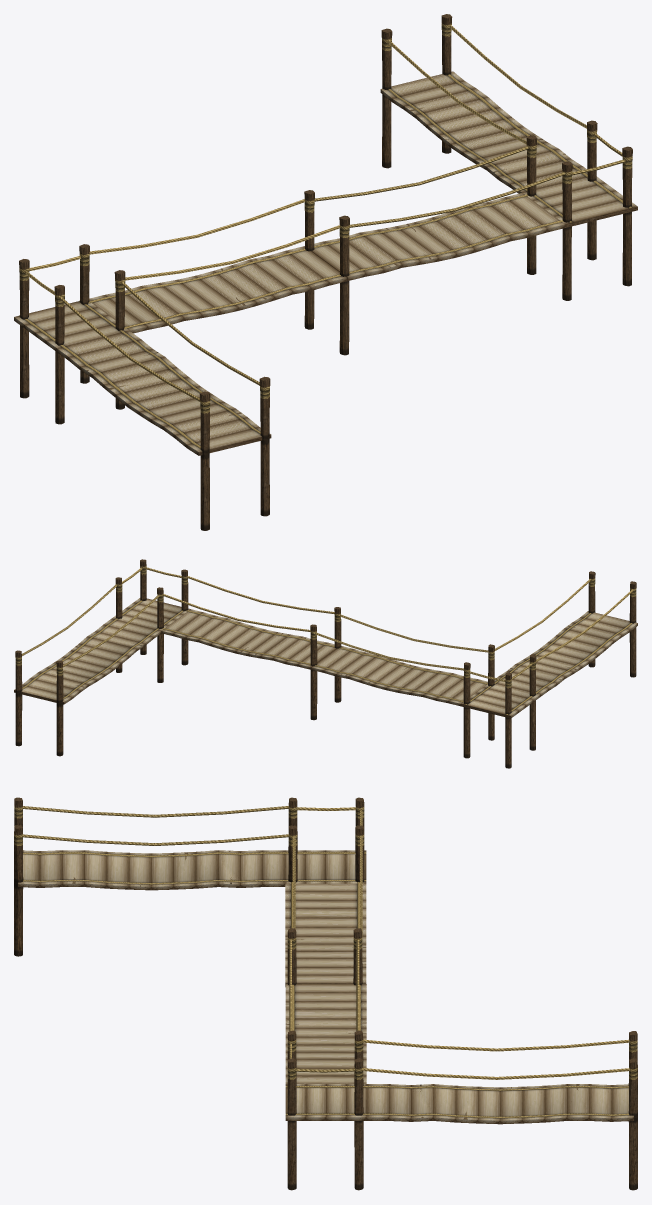
The model's file is p2_platform1_S_LOD0.fbx.
The picture shows the model from 3 angles, top to bottom: view 1: azimuth 30°, elevation 25°; view 2: azimuth 150°, elevation 25°; view 3: azimuth 270°, elevation 25°; orthographic projection. The views are drawn at different scales.
Parts seen in each view (by area): view 1: polymsh; view 2: polymsh; view 3: polymsh.
Part boxes in pixels (x1,y1,x2,y2): polymsh: (14,14,637,530); polymsh: (14,559,637,768); polymsh: (14,797,637,1190).
Size of the model in its own units: 801 by 179 by 790.
